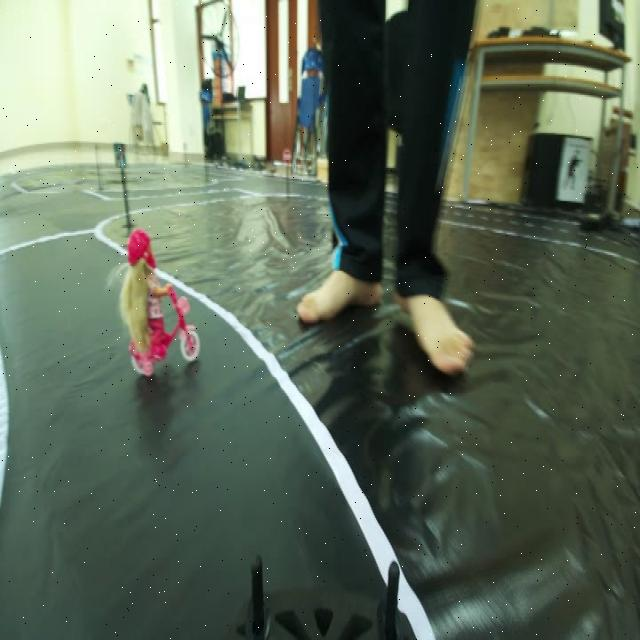pedestrian: (120, 223, 204, 371)
